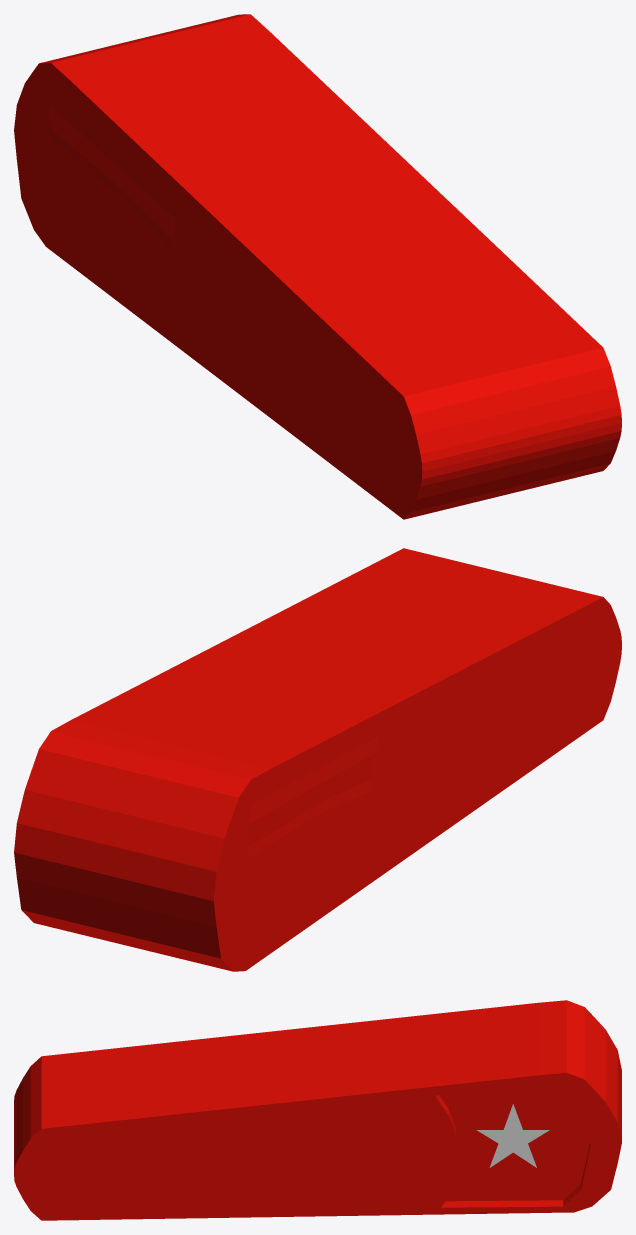
The model's file is Pinger.fbx.
The picture shows the model from 3 angles, top to bottom: view 1: azimuth 30°, elevation 25°; view 2: azimuth 150°, elevation 25°; view 3: azimuth 270°, elevation 25°; orthographic projection. The views are drawn at different scales.
Visible parts, largest first — view 1: Cube; view 2: Cube; view 3: Cube, Text.
Part boxes in pixels (x1,y1,x2,y2): Cube: (14,14,621,519); Cube: (14,548,621,971); Cube: (14,1000,621,1220); Text: (476,1104,549,1167).
Bounding box in the file's own units: 201 × 190 × 708.
